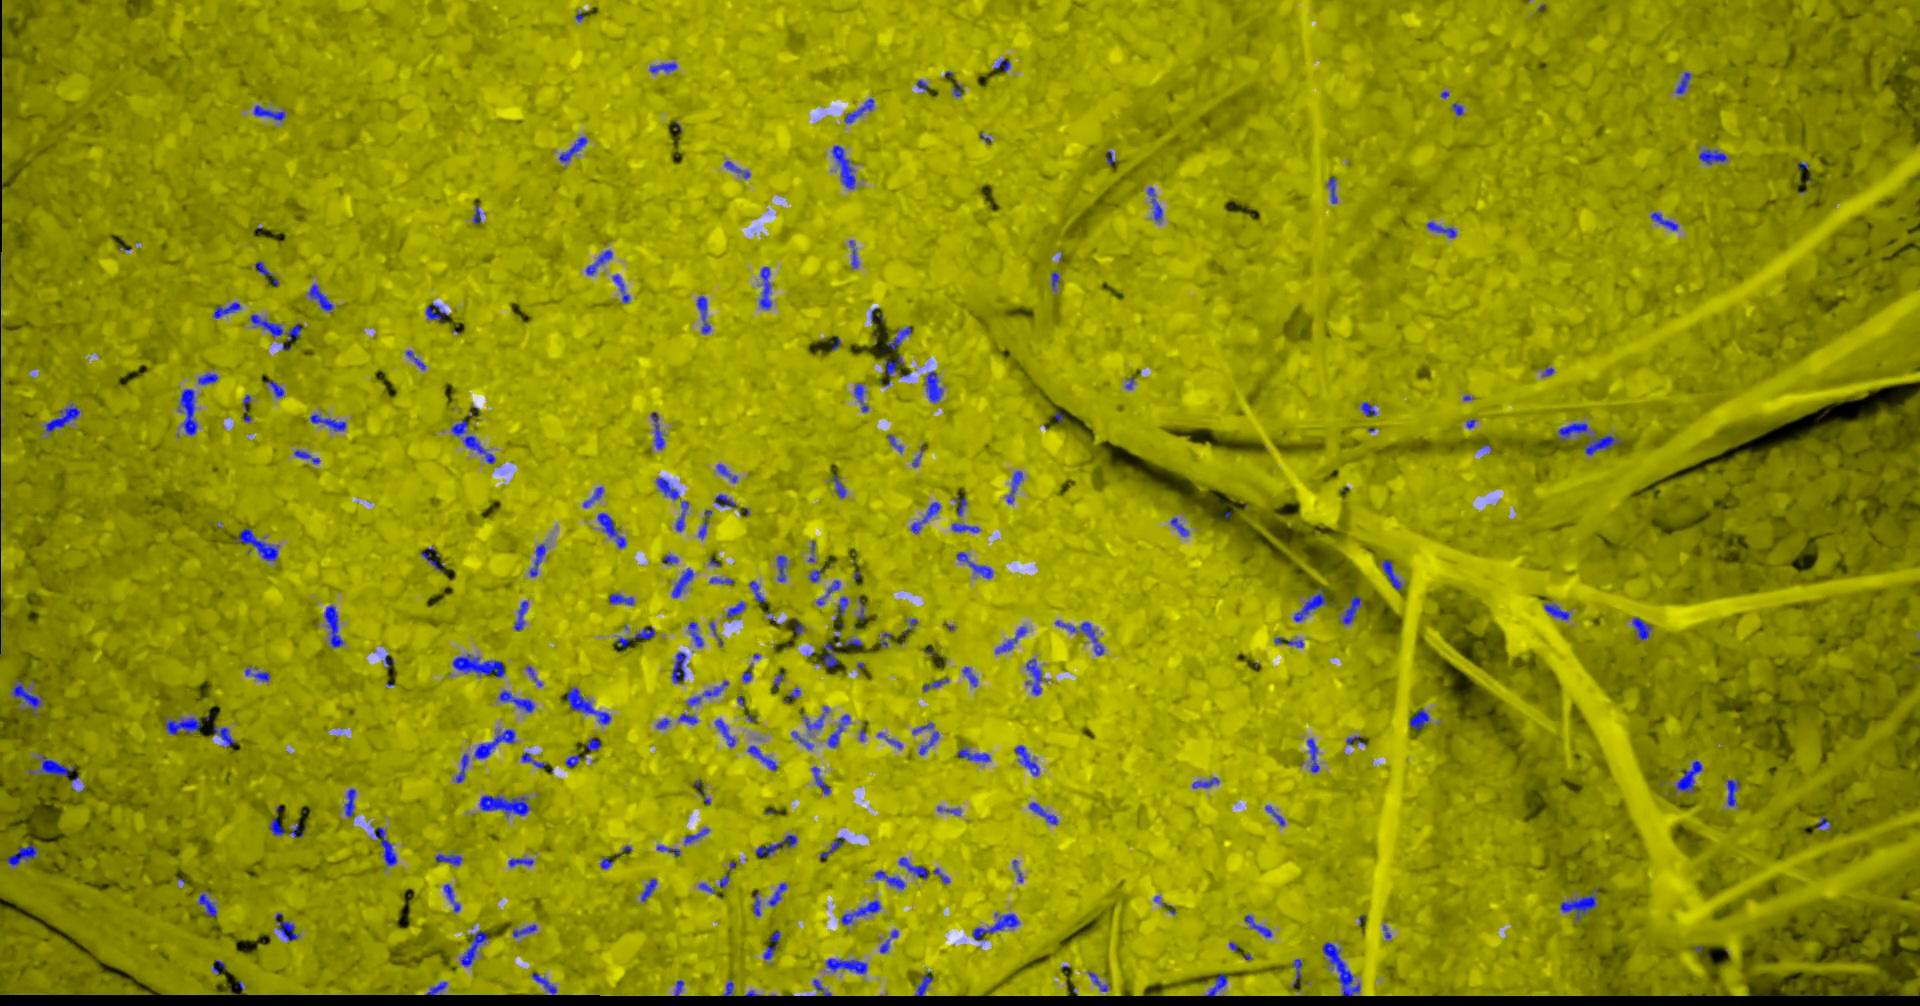ant: (450, 419, 495, 464), (1322, 942, 1360, 996), (1054, 620, 1103, 655), (565, 687, 610, 724), (234, 527, 278, 560), (249, 314, 301, 340), (971, 913, 1018, 940), (452, 654, 505, 677), (474, 729, 514, 758), (11, 676, 41, 715), (1293, 587, 1326, 621), (830, 145, 855, 188), (458, 931, 488, 967), (479, 795, 530, 815), (597, 512, 625, 547), (1559, 892, 1595, 920), (910, 500, 940, 533), (44, 403, 79, 431), (841, 899, 880, 923), (956, 551, 992, 578), (756, 835, 796, 857), (373, 826, 396, 865), (498, 688, 535, 713), (39, 754, 76, 779), (912, 721, 938, 754), (994, 626, 1026, 653), (179, 387, 197, 434), (1676, 760, 1702, 791), (615, 626, 654, 647), (324, 605, 343, 647), (827, 714, 850, 747), (1583, 434, 1620, 455), (822, 629, 841, 667), (5, 843, 37, 866), (557, 136, 585, 161), (747, 746, 776, 770), (1015, 746, 1039, 775), (585, 250, 612, 276), (844, 98, 872, 122), (670, 568, 693, 597), (309, 413, 345, 431), (1025, 658, 1043, 695), (897, 857, 928, 878), (1029, 801, 1057, 824), (276, 912, 298, 940), (825, 958, 867, 973), (164, 716, 199, 734), (309, 285, 333, 310), (885, 325, 910, 349), (804, 706, 829, 730), (1244, 915, 1271, 937), (872, 870, 904, 889), (714, 718, 735, 746), (817, 580, 841, 605), (1382, 559, 1401, 589), (531, 972, 556, 995), (1341, 594, 1361, 622), (1145, 187, 1162, 221), (420, 547, 443, 572), (758, 265, 771, 309), (819, 836, 844, 857), (1006, 470, 1022, 503), (528, 542, 545, 575), (924, 371, 942, 401), (1557, 422, 1587, 439), (1650, 211, 1677, 230), (696, 295, 710, 333), (811, 766, 830, 794), (650, 412, 664, 448), (1426, 221, 1457, 238), (763, 929, 780, 959), (657, 478, 679, 499), (253, 104, 284, 119), (957, 747, 989, 762), (1305, 738, 1319, 772), (724, 160, 750, 178), (425, 302, 448, 323), (670, 652, 686, 682), (1205, 973, 1225, 996), (612, 274, 629, 302), (443, 883, 460, 911), (767, 882, 786, 906), (914, 970, 932, 996), (582, 486, 603, 507), (211, 727, 234, 746), (521, 751, 545, 768), (198, 893, 216, 917), (1698, 149, 1726, 164), (212, 302, 240, 318), (853, 384, 869, 412), (513, 600, 527, 630), (687, 621, 703, 647), (702, 680, 728, 696), (1263, 805, 1284, 826), (884, 354, 903, 376), (1630, 617, 1650, 639), (1410, 709, 1429, 730), (791, 730, 813, 749), (455, 753, 469, 782), (1543, 603, 1570, 619), (877, 732, 902, 748), (684, 827, 709, 843), (405, 351, 425, 370), (293, 448, 319, 464), (676, 500, 688, 531), (244, 666, 269, 681), (1088, 970, 1107, 991), (640, 878, 657, 901), (922, 677, 949, 691), (698, 509, 711, 539), (1170, 517, 1189, 536), (716, 464, 737, 481), (263, 380, 284, 396), (1726, 779, 1738, 807), (830, 474, 846, 497), (254, 260, 272, 279), (726, 600, 745, 617), (512, 923, 536, 937), (344, 788, 356, 817), (1675, 71, 1690, 93), (749, 580, 764, 602), (425, 981, 447, 995), (1274, 636, 1303, 647), (813, 979, 830, 996), (714, 494, 737, 507), (608, 593, 634, 605), (436, 854, 461, 865), (951, 522, 979, 532), (963, 667, 977, 687), (1291, 959, 1302, 987), (649, 62, 676, 72), (1192, 777, 1219, 788), (269, 817, 284, 835), (776, 555, 786, 580), (1360, 401, 1377, 417), (850, 240, 858, 268), (954, 495, 966, 514), (1327, 177, 1336, 203), (243, 394, 251, 420), (657, 845, 679, 855), (508, 857, 533, 866), (836, 596, 847, 615), (678, 713, 697, 724), (993, 58, 1010, 71), (564, 754, 580, 767), (197, 373, 217, 384), (1816, 815, 1830, 829), (752, 890, 759, 916), (792, 619, 804, 635), (709, 577, 733, 584), (212, 959, 225, 973), (585, 738, 599, 749), (723, 981, 733, 996), (663, 554, 677, 564), (809, 569, 820, 580)
